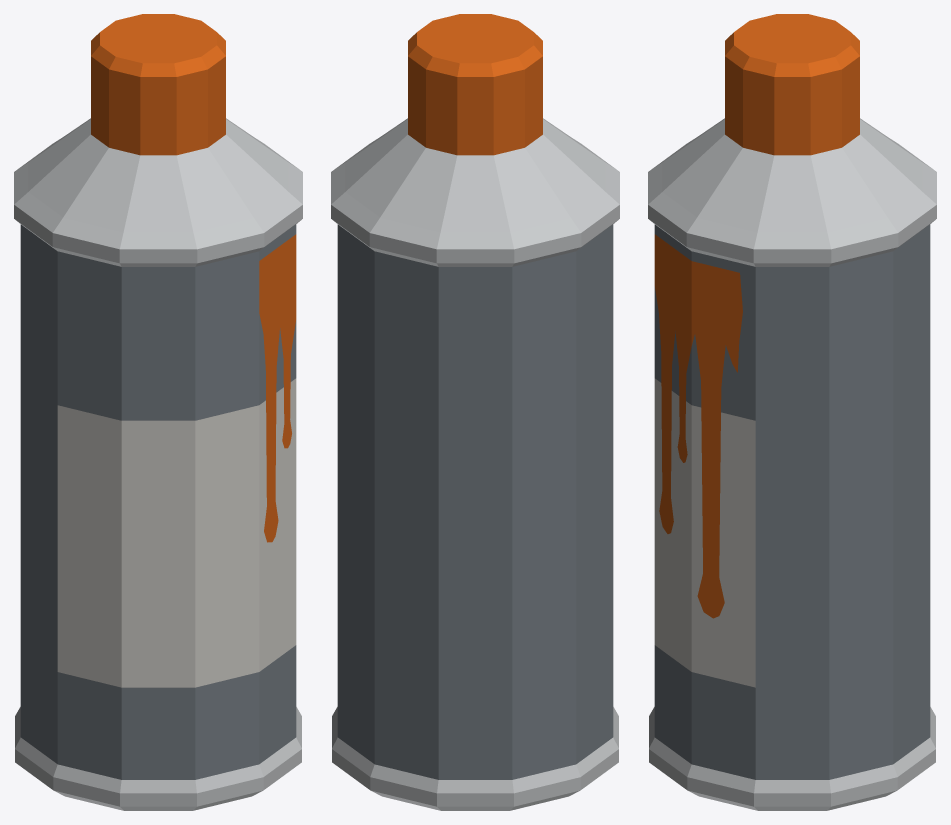
Rendered from spray-paint-can-6e5292.glb.
3 renders of one model, left to right at view 1: azimuth 30°, elevation 25°; view 2: azimuth 150°, elevation 25°; view 3: azimuth 270°, elevation 25°, orthographic.
Visible parts, largest first — view 1: can-body, cap-shell; view 2: can-body, cap-shell; view 3: can-body, cap-shell.
Part boxes in pixels (x1=…): can-body: x1=14, y1=118, x2=302, y2=810; cap-shell: x1=91, y1=14, x2=225, y2=155; can-body: x1=331, y1=118, x2=619, y2=810; cap-shell: x1=408, y1=14, x2=542, y2=155; can-body: x1=648, y1=118, x2=936, y2=810; cap-shell: x1=725, y1=14, x2=859, y2=155.
Size of the model in its own units: 0.0668 by 0.1834 by 0.0668.
